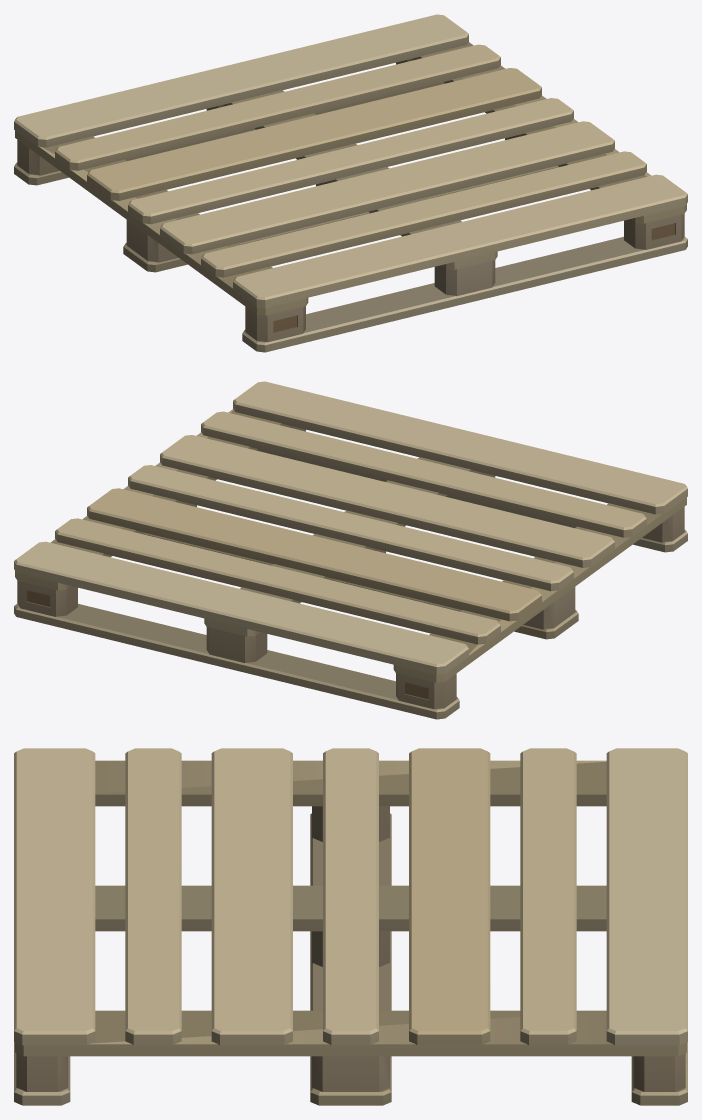
Rendered from pallet.glb.
The picture shows the model from 3 angles, top to bottom: view 1: azimuth 30°, elevation 25°; view 2: azimuth 150°, elevation 25°; view 3: azimuth 270°, elevation 25°; orthographic projection. The views are drawn at different scales.
Visible parts, largest first — view 1: pallet.001; view 2: pallet.001; view 3: pallet.001.
Boxes of the visible parts, x1,y1,x2,y2 form: pallet.001: (14, 14, 687, 352); pallet.001: (14, 381, 687, 719); pallet.001: (14, 748, 687, 1105).
Size of the model in its own units: 1.2 by 0.144 by 1.2.
